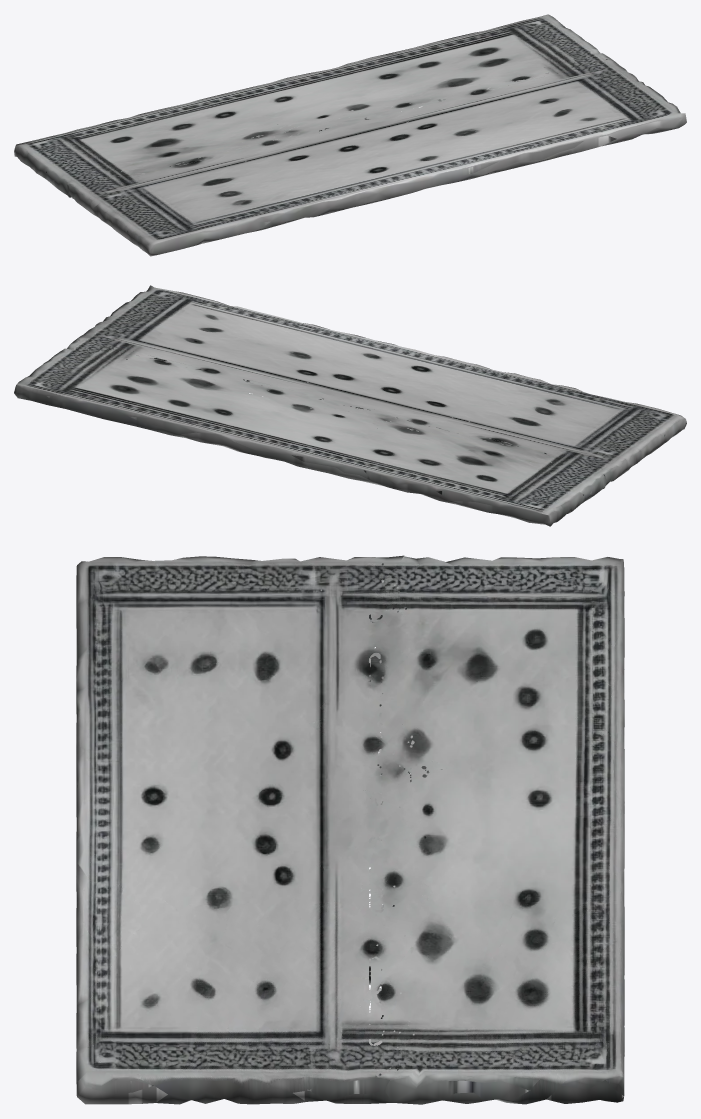
3 views of the same model, one above another, from view 1: azimuth 30°, elevation 25°; view 2: azimuth 150°, elevation 25°; view 3: azimuth 270°, elevation 25° (orthographic). The views are drawn at different scales.
Size of the model in its own units: 1.2 by 0.0303 by 0.53.
1 material, 1 textured.
